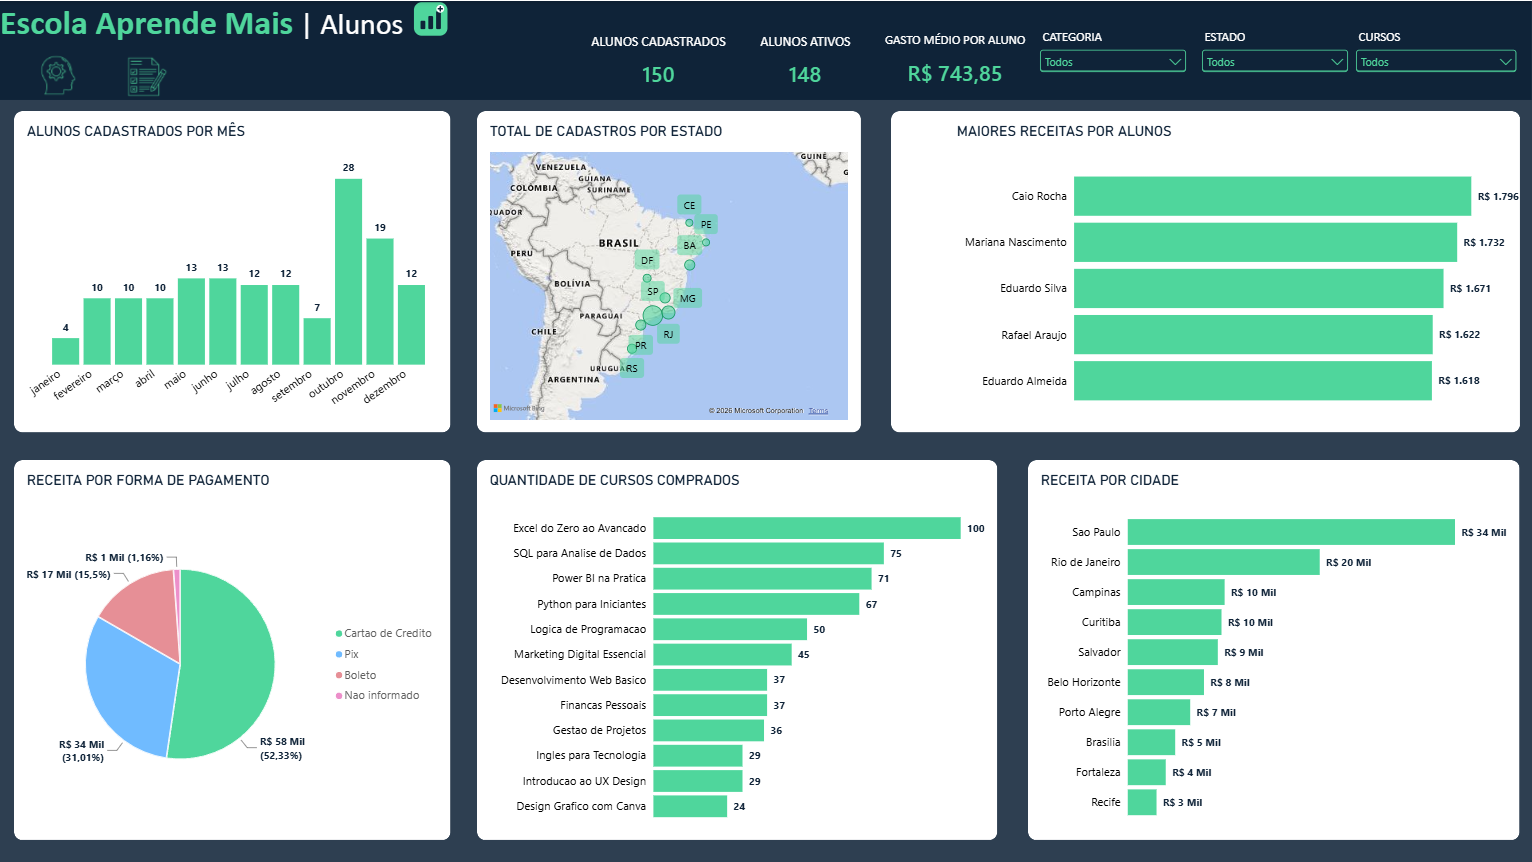

The page's visual inventory and layout, read from the dashboard file:
{"tool":"powerbi","page":{"name":"visão alunos","canvas":[1920,1080],"ordinal":2},"visuals":[{"type":"textbox","box":[0,0,1919.4,124],"z":0},{"type":"shape","box":[17.2,137.9,547,402.8],"z":1000},{"type":"shape","box":[597.2,137.9,481.2,402.8],"z":2000},{"type":"shape","box":[17.2,575.2,547,476.5],"z":3000},{"type":"shape","box":[1116,137.9,788.4,402.8],"z":4000},{"type":"shape","box":[1288.4,575.2,616,476.5],"z":5000},{"type":"cardVisual","title":"ALUNOS CADASTRADOS","fields":{"Data":["alunos.alunos cadastrados"]},"box":[727.8,38.6,194.1,66],"z":6000},{"type":"cardVisual","title":"ALUNOS ATIVOS","fields":{"Data":["alunos.alunos ativos"]},"box":[922.1,38.6,173.7,66.2],"z":7000},{"type":"cardVisual","title":"GASTO MÉDIO POR ALUNO","fields":{"Data":["alunos.gasto médio por alunos"]},"box":[1105.4,38.6,183.3,66.2],"z":8000},{"type":"slicer","title":"CATEGORIA","fields":{"Values":["cursos.categoria"]},"box":[1298,35.1,192.8,75],"z":9000},{"type":"slicer","title":"CATEGORIA","fields":{"Values":["alunos.estado"]},"box":[1500.8,34.9,192.8,75],"z":10000},{"type":"slicer","title":"CATEGORIA","fields":{"Values":["cursos.nome_curso"]},"box":[1693.6,34.9,210.9,75],"z":11000},{"type":"columnChart","title":"ALUNOS CADASTRADOS POR MÊS","fields":{"Category":["alunos.data_cadastro.Variação.Hierarquia de datas.Mês"],"Y":["alunos.alunos cadastrados"]},"box":[17.2,137.9,547,402.8],"z":12000},{"type":"pieChart","title":"RECEITA POR FORMA DE PAGAMENTO","fields":{"Category":["matriculas.forma_pagamento"],"Y":["matriculas.receita"]},"box":[17.2,575.2,548.6,476.5],"z":13000},{"type":"barChart","title":"MAIORES RECEITAS POR ALUNOS","fields":{"Category":["alunos.nome"],"Y":["matriculas.receita"]},"box":[1183.3,137.9,736.7,402.8],"z":14000},{"type":"map","title":"TOTAL DE CADASTROS POR ESTADO","fields":{"Category":["alunos.estado"],"Size":["alunos.alunos cadastrados"]},"box":[597.2,137.9,481.2,402.8],"z":15000},{"type":"barChart","title":"RECEITA POR CIDADE","fields":{"Category":["alunos.cidade"],"Y":["matriculas.receita"]},"box":[1288.4,575.2,616,476.5],"z":16000},{"type":"shape","box":[597.2,575.2,652,476.5],"z":17000},{"type":"barChart","title":"QUANTIDADE DE CURSOS COMPRADOS","fields":{"Category":["cursos.nome_curso"],"Y":["cursos.cursos comprados"]},"box":[597.2,575.2,652,476.5],"z":18000},{"type":"actionButton","box":[17.5,62.6,111.5,61.4],"z":18001},{"type":"actionButton","box":[129,66.4,111.3,58],"z":18002},{"type":"image","box":[491.1,0,96.5,45.1],"z":18003}]}

Visuals, with their boxes in screenshot pixels (x1, y1, x2, y2), scaled from the page's 1920x1080 canvas onto the 1532x862 screenshot:
textbox: Rect(0, 0, 1531, 99)
shape: Rect(14, 110, 450, 432)
shape: Rect(477, 110, 860, 432)
shape: Rect(14, 459, 450, 839)
shape: Rect(890, 110, 1520, 432)
shape: Rect(1028, 459, 1520, 839)
"ALUNOS CADASTRADOS" cardVisual: Rect(581, 31, 736, 83)
"ALUNOS ATIVOS" cardVisual: Rect(736, 31, 874, 84)
"GASTO MÉDIO POR ALUNO" cardVisual: Rect(882, 31, 1028, 84)
"CATEGORIA" slicer: Rect(1036, 28, 1190, 88)
"CATEGORIA" slicer: Rect(1198, 28, 1351, 88)
"CATEGORIA" slicer: Rect(1351, 28, 1520, 88)
"ALUNOS CADASTRADOS POR MÊS" columnChart: Rect(14, 110, 450, 432)
"RECEITA POR FORMA DE PAGAMENTO" pieChart: Rect(14, 459, 451, 839)
"MAIORES RECEITAS POR ALUNOS" barChart: Rect(944, 110, 1531, 432)
"TOTAL DE CADASTROS POR ESTADO" map: Rect(477, 110, 860, 432)
"RECEITA POR CIDADE" barChart: Rect(1028, 459, 1520, 839)
shape: Rect(477, 459, 997, 839)
"QUANTIDADE DE CURSOS COMPRADOS" barChart: Rect(477, 459, 997, 839)
actionButton: Rect(14, 50, 103, 99)
actionButton: Rect(103, 53, 192, 99)
image: Rect(392, 0, 469, 36)
